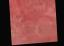plaque psoriasis: (9, 0, 57, 45), (10, 24, 40, 45)
